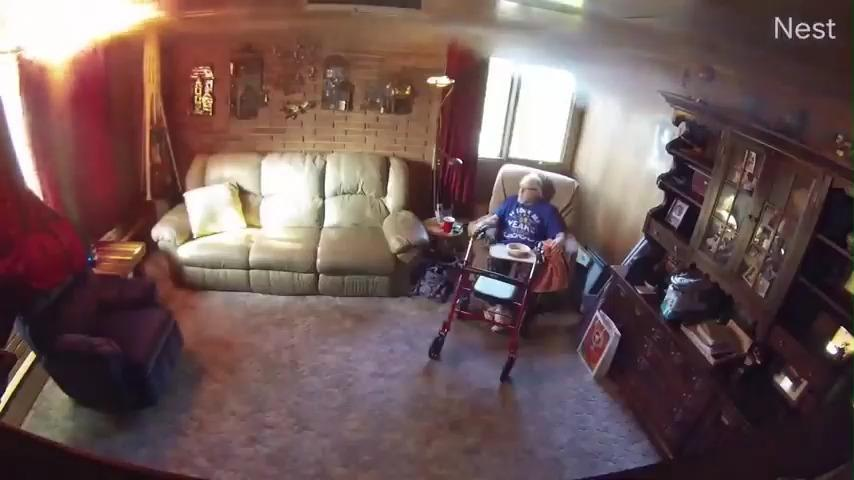fire: (3, 1, 173, 68)
